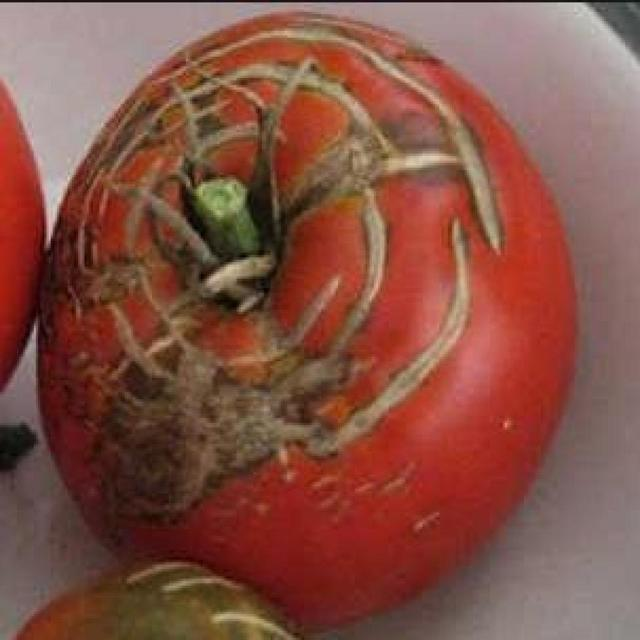Cracking Fruit: (49, 35, 278, 398)
